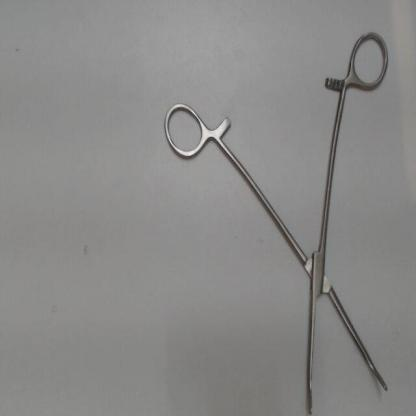Lahey Forceps: (152, 19, 395, 413)
